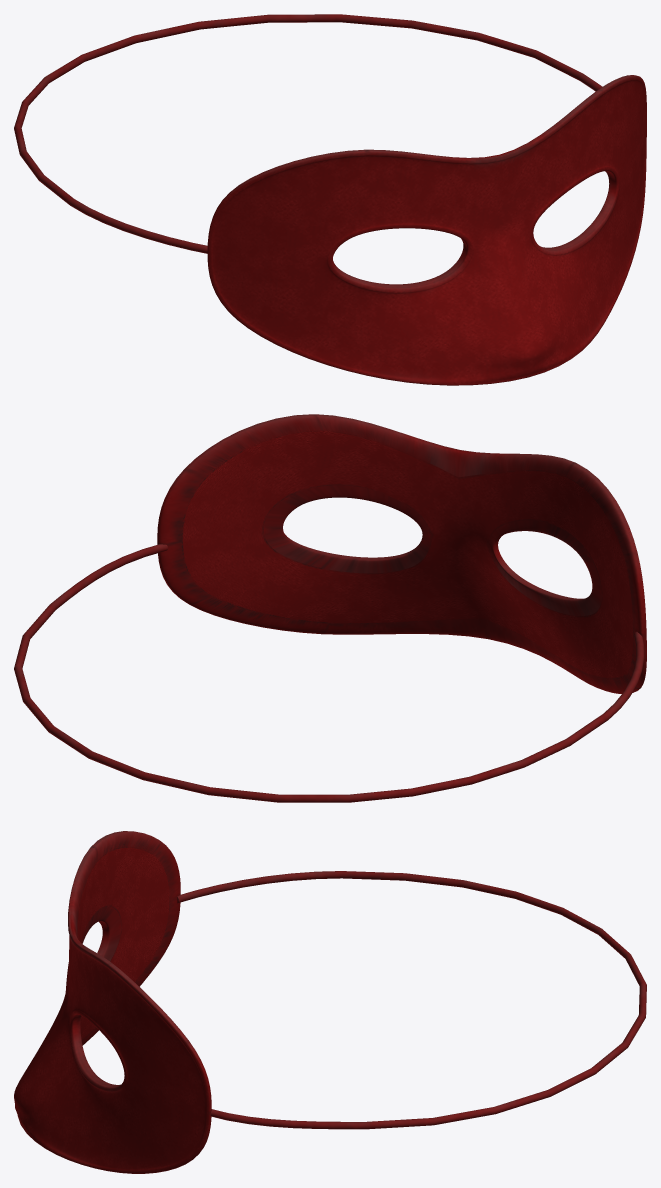
The model's file is pomme-r2.glb.
3 views of the same model, one above another, from view 1: azimuth 30°, elevation 25°; view 2: azimuth 150°, elevation 25°; view 3: azimuth 270°, elevation 25° (orthographic). The views are drawn at different scales.
Parts seen in each view (by area): view 1: Box003, Circle010; view 2: Box003, Circle010; view 3: Box003, Circle010.
Part boxes in pixels (left/top/right/bottom): Box003: left=207, top=75, right=646, bottom=385; Circle010: left=14, top=14, right=602, bottom=253; Box003: left=157, top=414, right=646, bottom=693; Circle010: left=14, top=544, right=644, bottom=802; Box003: left=14, top=831, right=211, bottom=1173; Circle010: left=177, top=871, right=646, bottom=1129.
Size of what is drawn, in the model's own units: 0.0476 by 0.0197 by 0.0524.
2 materials, 2 textured.
